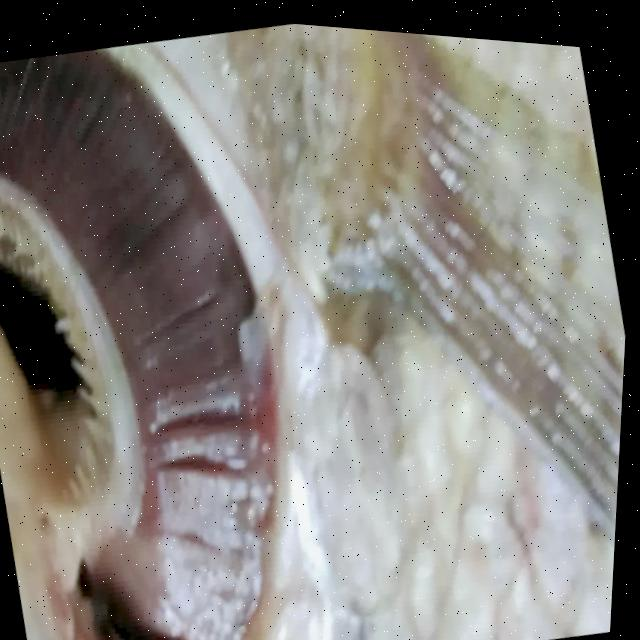Non-Fresh: (0, 13, 351, 640)
